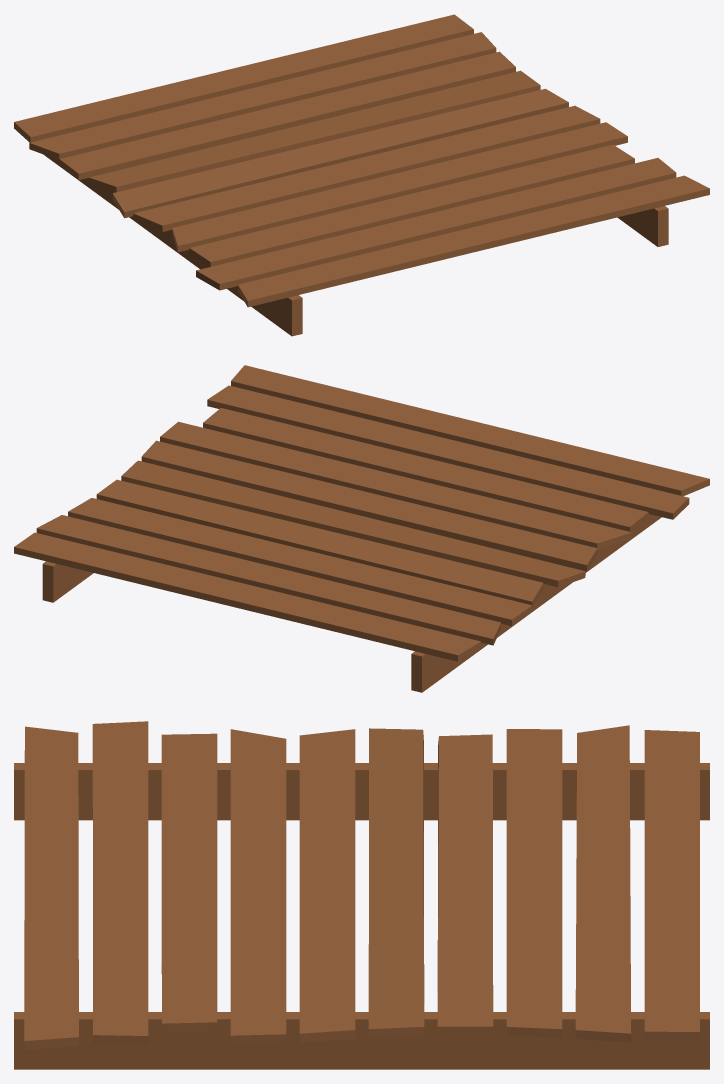
Rendered from No Pole Crocked Dock.fbx.
3 views of the same model, one above another, from view 1: azimuth 30°, elevation 25°; view 2: azimuth 150°, elevation 25°; view 3: azimuth 270°, elevation 25° (orthographic). The views are drawn at different scales.
Visible parts, largest first — view 1: No Pole Crocked Dock; view 2: No Pole Crocked Dock; view 3: No Pole Crocked Dock.
Part boxes in pixels (<box>): No Pole Crocked Dock: <box>14,14,709,336</box>; No Pole Crocked Dock: <box>14,365,709,692</box>; No Pole Crocked Dock: <box>14,721,709,1069</box>.
Bounding box in the file's own units: 384 × 34.3 × 353.
